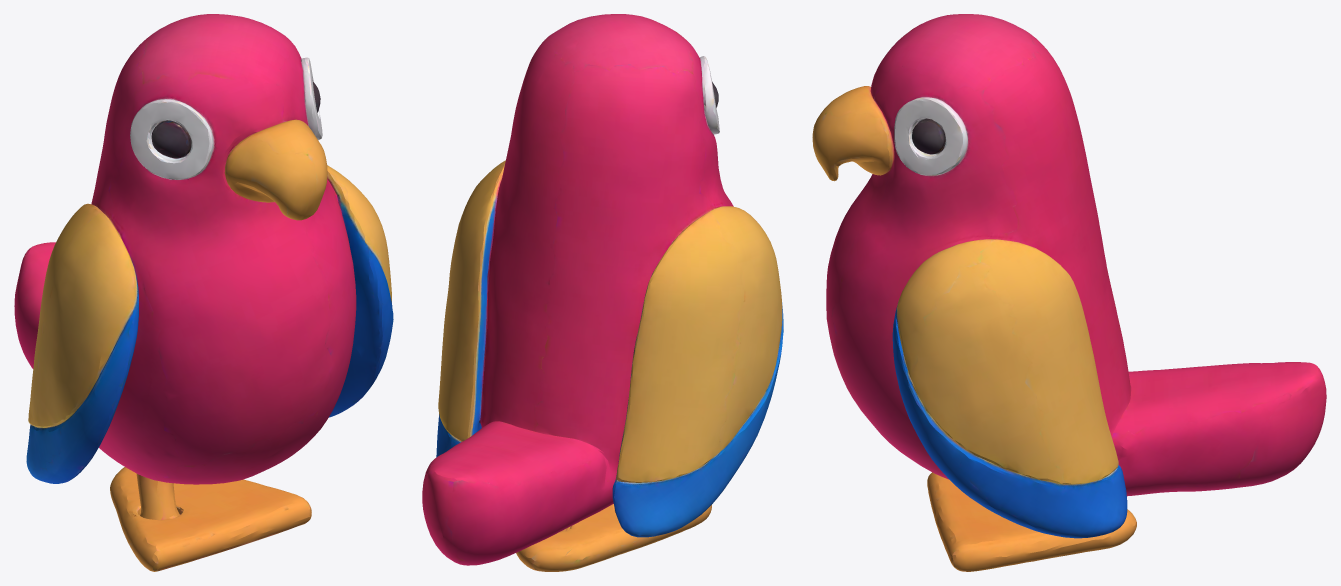
The model's file is parrot.glb.
The picture shows the model from 3 angles, left to right: view 1: azimuth 30°, elevation 25°; view 2: azimuth 150°, elevation 25°; view 3: azimuth 270°, elevation 25°; orthographic projection. The views are drawn at different scales.
Parts seen in each view (by area): view 1: Mesh; view 2: Mesh; view 3: Mesh.
Boxes of the visible parts, x1=… form: Mesh: x1=14, y1=14, x2=393, y2=571; Mesh: x1=422, y1=14, x2=783, y2=571; Mesh: x1=812, y1=14, x2=1326, y2=571.
Bounding box in the file's own units: 0.6386 × 1 × 0.9124.
1 material, 1 textured.
